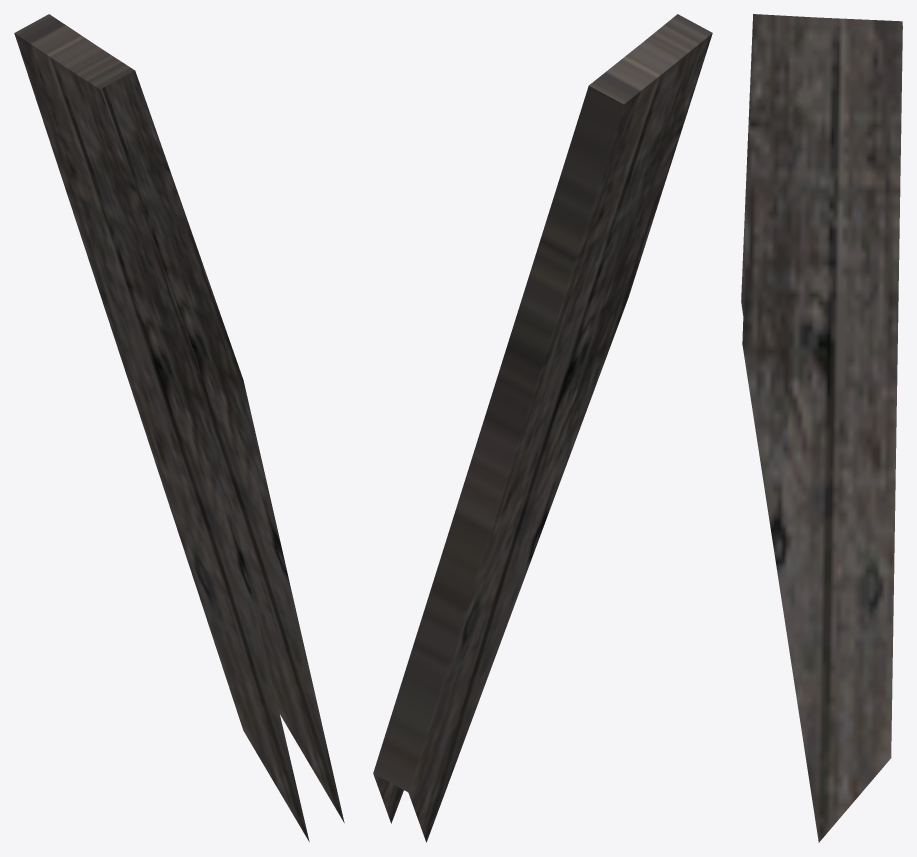
Rendered from shackwall01_dmg05_a.glb.
The picture shows the model from 3 angles, left to right: view 1: azimuth 30°, elevation 25°; view 2: azimuth 150°, elevation 25°; view 3: azimuth 270°, elevation 25°; orthographic projection. The views are drawn at different scales.
Visible parts, largest first — view 1: shackwall01_dmg05_a; view 2: shackwall01_dmg05_a; view 3: shackwall01_dmg05_a.
Boxes of the visible parts, left/top/right/bottom form: shackwall01_dmg05_a: left=14, top=14, right=344, bottom=841; shackwall01_dmg05_a: left=373, top=14, right=712, bottom=842; shackwall01_dmg05_a: left=741, top=14, right=902, bottom=842.
Size of the model in its own units: 0.1479 by 0.4258 by 0.0856.
Materials: 1 (1 with a texture image).
